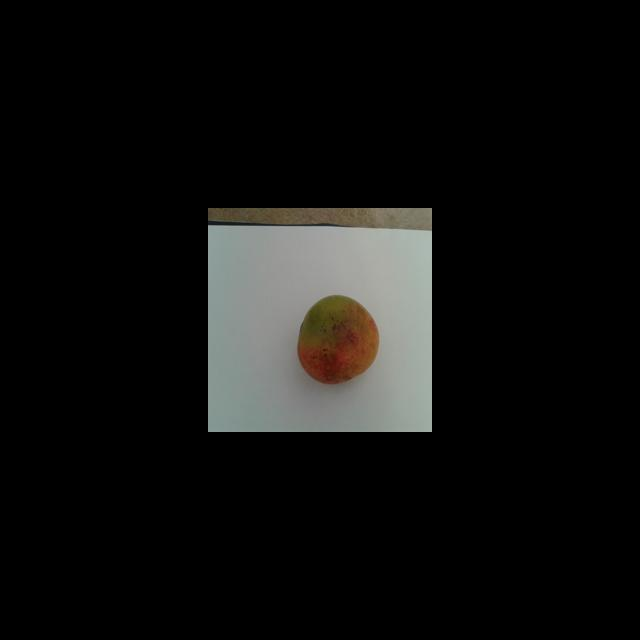Mango: (296, 293, 379, 384)
